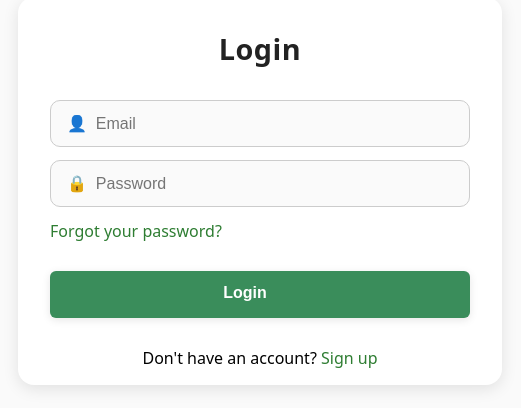
Test: Login page › disables button and shows loading during login
The image size is (521, 408).
Type "a@a.com" into the field with placeholder "👤 Email" at (260, 124), box x1=50 y1=100 x2=470 y2=147
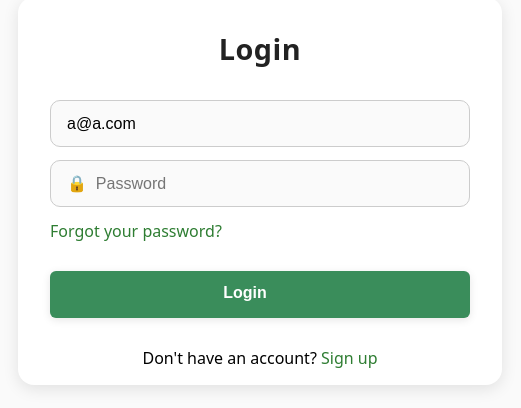
Type "pass" into the password field with placeholder "🔒 Password" at (260, 184), box x1=50 y1=160 x2=470 y2=207
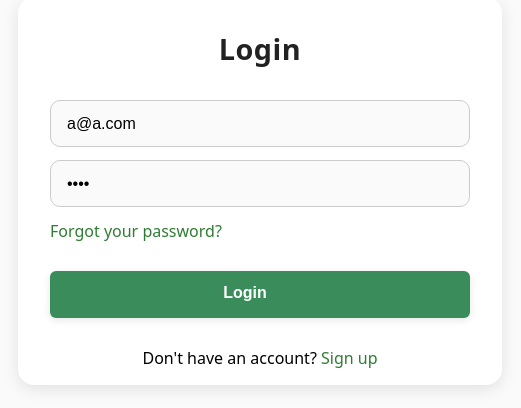
Click the button "Login" at (260, 294), box x1=50 y1=271 x2=470 y2=318
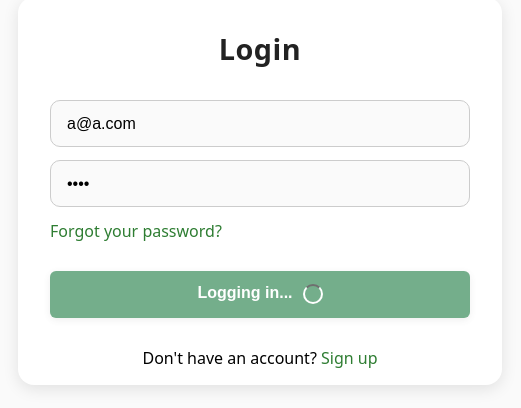
Expected: the button "Logging in..." is disabled, x1=50 y1=271 x2=470 y2=318
